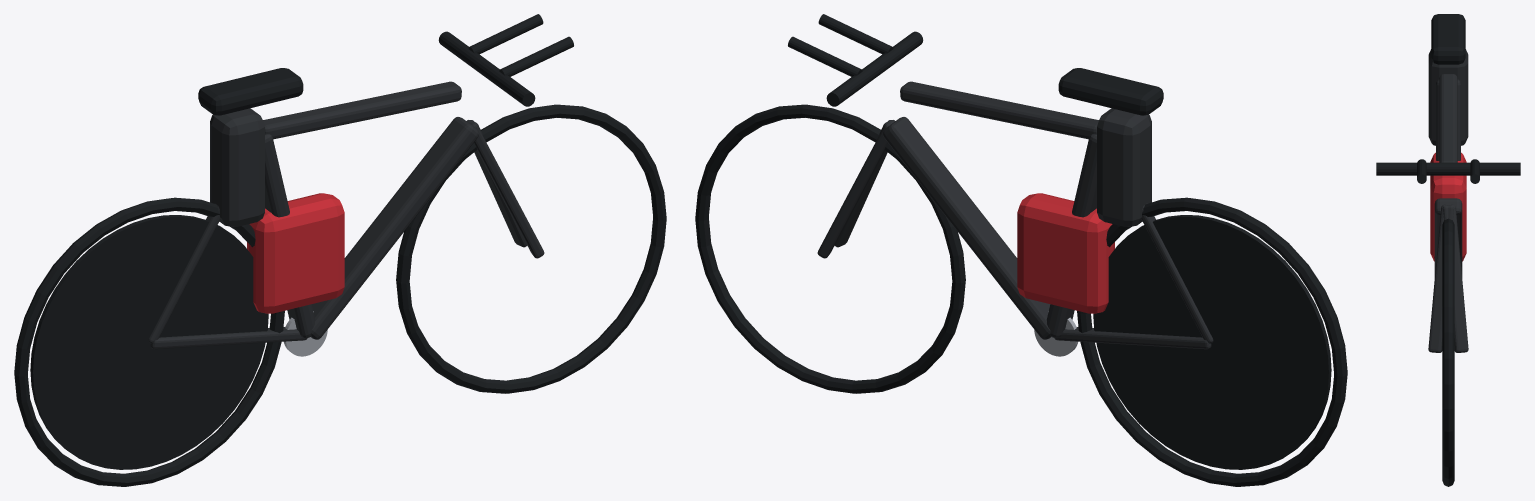
The model's file is specialized-shiv-disc-size-m.glb.
3 renders of one model, left to right at view 1: azimuth 30°, elevation 25°; view 2: azimuth 150°, elevation 25°; view 3: azimuth 270°, elevation 25°, orthographic. The views are drawn at different scales.
Visible parts, largest first — view 1: specialized-shiv-disc-size-m_REAR_DISC, specialized-shiv-disc-size-m_FRONT_WHEEL, specialized-shiv-disc-size-m_REAR_WHEEL, specialized-shiv-disc-size-m_FUELCELL, specialized-shiv-disc-size-m_DOWN_TUBE, specialized-shiv-disc-size-m_REAR_HYDRATION, specialized-shiv-disc-size-m_TOP_TUBE, specialized-shiv-disc-size-m_SADDLE, specialized-shiv-disc-size-m_SEAT_TUBE, specialized-shiv-disc-size-m_CHAIN_STAY, specialized-shiv-disc-size-m_FORK_L, specialized-shiv-disc-size-m_AERO_BASE (+4 smaller); view 2: specialized-shiv-disc-size-m_REAR_DISC, specialized-shiv-disc-size-m_FRONT_WHEEL, specialized-shiv-disc-size-m_REAR_WHEEL, specialized-shiv-disc-size-m_FUELCELL, specialized-shiv-disc-size-m_DOWN_TUBE, specialized-shiv-disc-size-m_REAR_HYDRATION, specialized-shiv-disc-size-m_TOP_TUBE, specialized-shiv-disc-size-m_SADDLE, specialized-shiv-disc-size-m_SEAT_TUBE, specialized-shiv-disc-size-m_CHAIN_STAY, specialized-shiv-disc-size-m_FORK_R, specialized-shiv-disc-size-m_AERO_BASE (+4 smaller); view 3: specialized-shiv-disc-size-m_FRONT_WHEEL, specialized-shiv-disc-size-m_AERO_BASE, specialized-shiv-disc-size-m_SADDLE, specialized-shiv-disc-size-m_REAR_HYDRATION, specialized-shiv-disc-size-m_TOP_TUBE, specialized-shiv-disc-size-m_FUELCELL, specialized-shiv-disc-size-m_FORK_L, specialized-shiv-disc-size-m_FORK_R, specialized-shiv-disc-size-m_DOWN_TUBE, specialized-shiv-disc-size-m_SEAT_TUBE, specialized-shiv-disc-size-m_EXT_L, specialized-shiv-disc-size-m_EXT_R.
Part boxes in pixels (bbox=[...]): specialized-shiv-disc-size-m_REAR_DISC: bbox=[30, 215, 268, 469]; specialized-shiv-disc-size-m_FRONT_WHEEL: bbox=[396, 104, 666, 393]; specialized-shiv-disc-size-m_REAR_WHEEL: bbox=[14, 197, 284, 486]; specialized-shiv-disc-size-m_FUELCELL: bbox=[247, 193, 344, 313]; specialized-shiv-disc-size-m_DOWN_TUBE: bbox=[311, 117, 478, 339]; specialized-shiv-disc-size-m_REAR_HYDRATION: bbox=[210, 108, 264, 226]; specialized-shiv-disc-size-m_TOP_TUBE: bbox=[263, 81, 461, 139]; specialized-shiv-disc-size-m_SADDLE: bbox=[198, 68, 303, 115]; specialized-shiv-disc-size-m_SEAT_TUBE: bbox=[265, 134, 315, 338]; specialized-shiv-disc-size-m_CHAIN_STAY: bbox=[150, 327, 307, 349]; specialized-shiv-disc-size-m_FORK_L: bbox=[470, 120, 544, 258]; specialized-shiv-disc-size-m_AERO_BASE: bbox=[438, 31, 535, 106]; specialized-shiv-disc-size-m_REAR_DISC: bbox=[1093, 215, 1331, 469]; specialized-shiv-disc-size-m_FRONT_WHEEL: bbox=[695, 104, 965, 393]; specialized-shiv-disc-size-m_REAR_WHEEL: bbox=[1077, 197, 1347, 486]; specialized-shiv-disc-size-m_FUELCELL: bbox=[1017, 193, 1114, 313]; specialized-shiv-disc-size-m_DOWN_TUBE: bbox=[883, 117, 1050, 339]; specialized-shiv-disc-size-m_REAR_HYDRATION: bbox=[1097, 108, 1151, 226]; specialized-shiv-disc-size-m_TOP_TUBE: bbox=[900, 81, 1098, 139]; specialized-shiv-disc-size-m_SADDLE: bbox=[1058, 68, 1163, 115]; specialized-shiv-disc-size-m_SEAT_TUBE: bbox=[1046, 134, 1096, 338]; specialized-shiv-disc-size-m_CHAIN_STAY: bbox=[1054, 327, 1211, 349]; specialized-shiv-disc-size-m_FORK_R: bbox=[817, 120, 891, 258]; specialized-shiv-disc-size-m_AERO_BASE: bbox=[826, 31, 923, 106]; specialized-shiv-disc-size-m_FRONT_WHEEL: bbox=[1442, 218, 1454, 486]; specialized-shiv-disc-size-m_AERO_BASE: bbox=[1376, 162, 1520, 175]; specialized-shiv-disc-size-m_SADDLE: bbox=[1431, 14, 1465, 64]; specialized-shiv-disc-size-m_REAR_HYDRATION: bbox=[1428, 49, 1468, 145]; specialized-shiv-disc-size-m_TOP_TUBE: bbox=[1439, 74, 1457, 162]; specialized-shiv-disc-size-m_FUELCELL: bbox=[1430, 152, 1466, 261]; specialized-shiv-disc-size-m_FORK_L: bbox=[1428, 204, 1454, 352]; specialized-shiv-disc-size-m_FORK_R: bbox=[1442, 204, 1468, 352]; specialized-shiv-disc-size-m_DOWN_TUBE: bbox=[1434, 198, 1462, 277]; specialized-shiv-disc-size-m_SEAT_TUBE: bbox=[1436, 79, 1460, 160]; specialized-shiv-disc-size-m_EXT_L: bbox=[1417, 159, 1426, 183]; specialized-shiv-disc-size-m_EXT_R: bbox=[1470, 159, 1479, 183].
Bounding box in the file's own units: 1.71 × 0.944 × 0.38.
